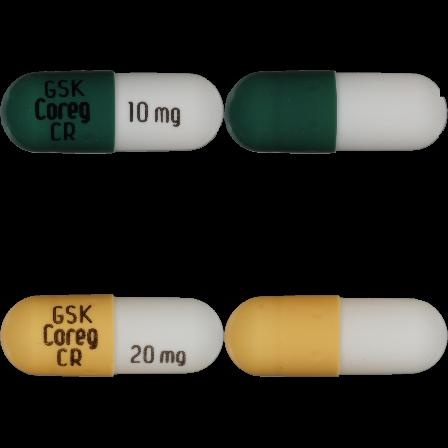0007-3370: (0, 0, 224, 224)
